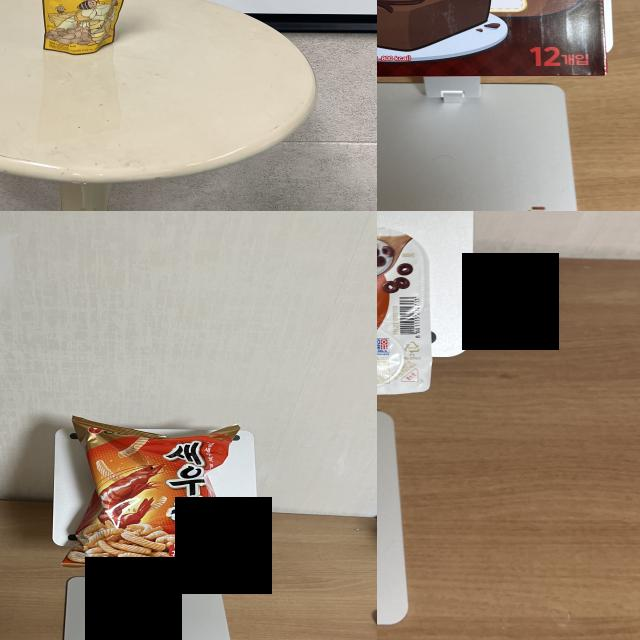bYott: (377, 229, 428, 391)
honeyAmond: (43, 0, 128, 50)
ohYes: (377, 0, 601, 73)
shrimpGGang: (78, 428, 222, 568)
